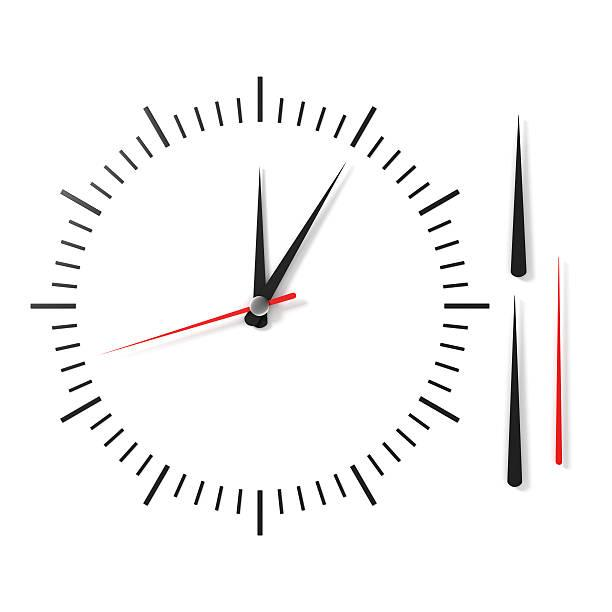clock: (26, 72, 499, 548)
